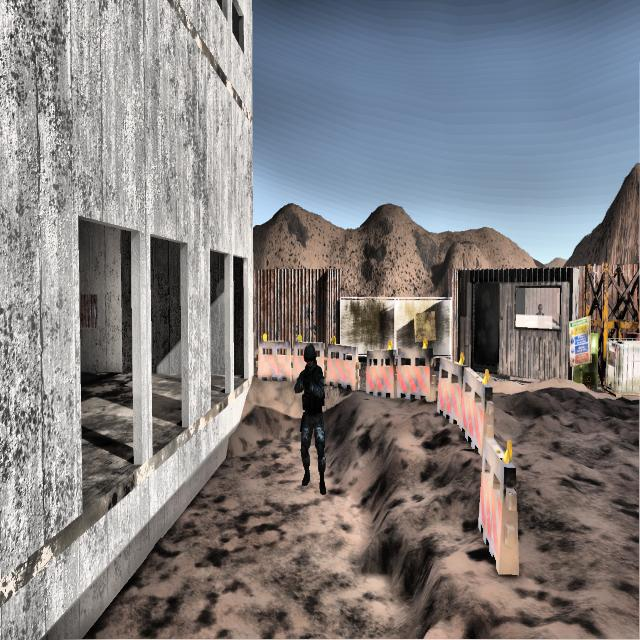bad: (290, 334, 332, 514)
